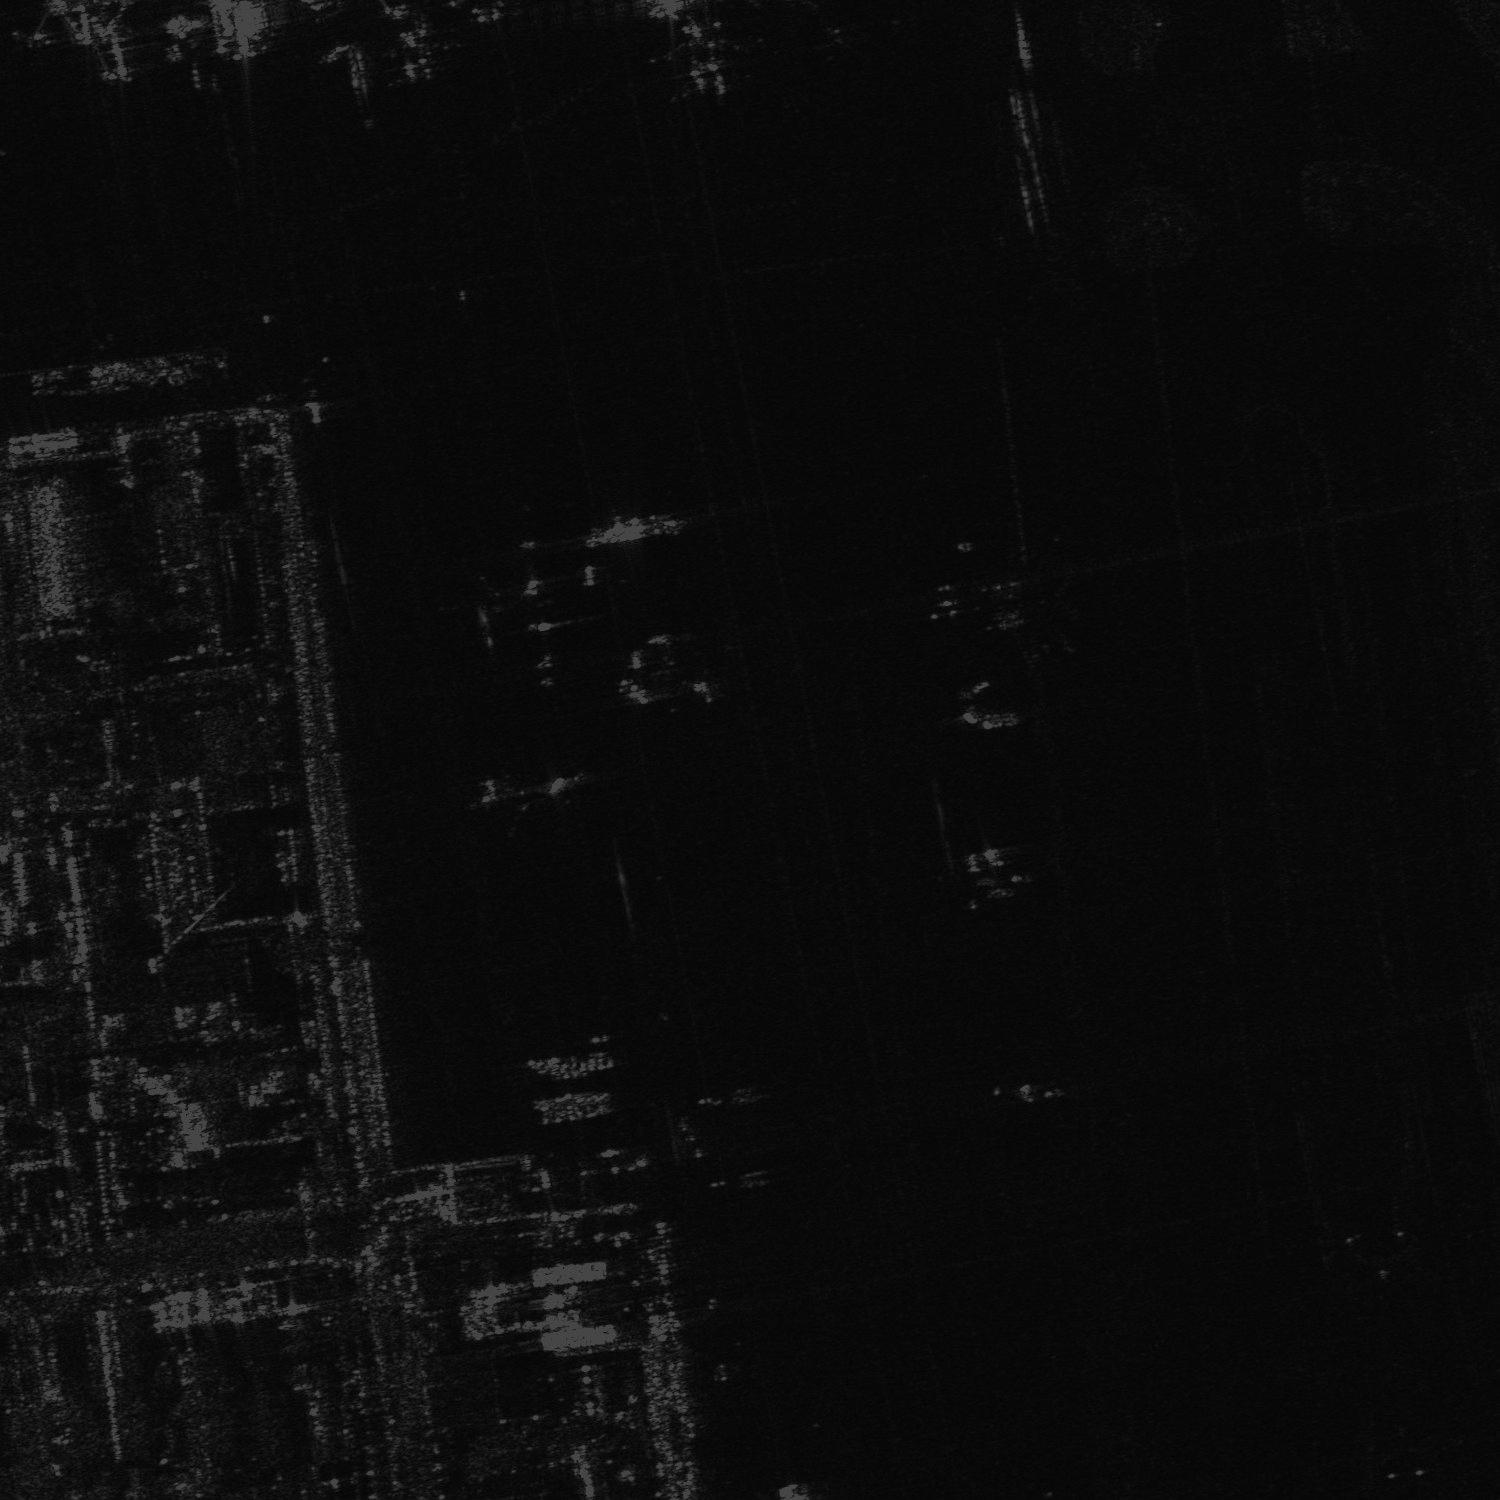Boeing737: (651, 12, 754, 102)
